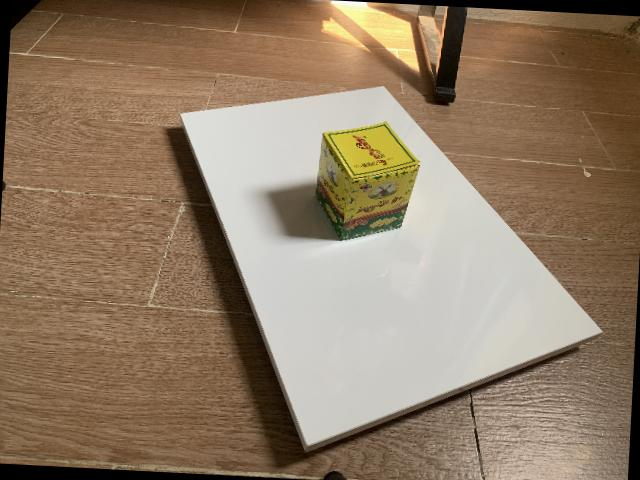luong_kho: (315, 121, 421, 241)
